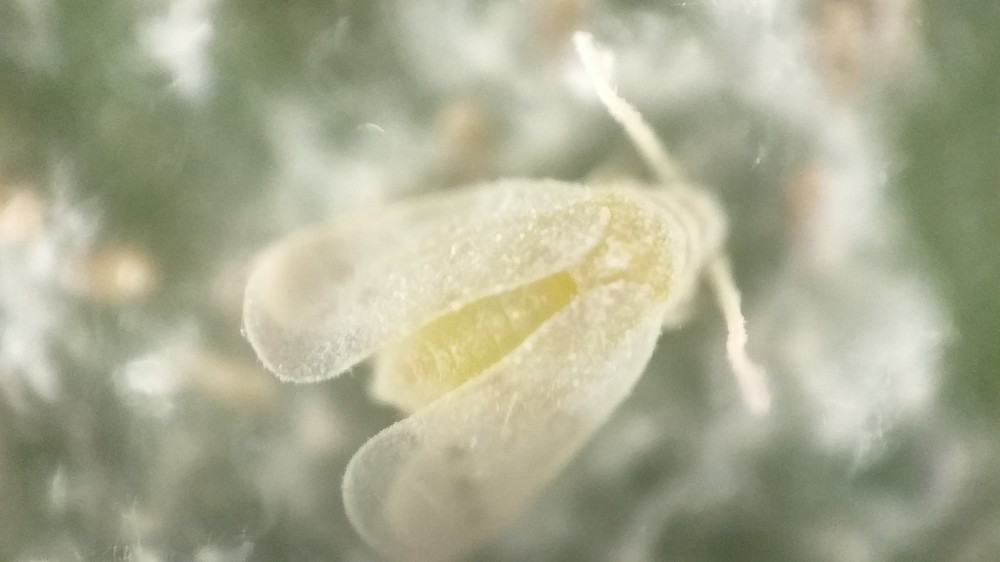Mosca Blanca: (235, 27, 795, 562)
